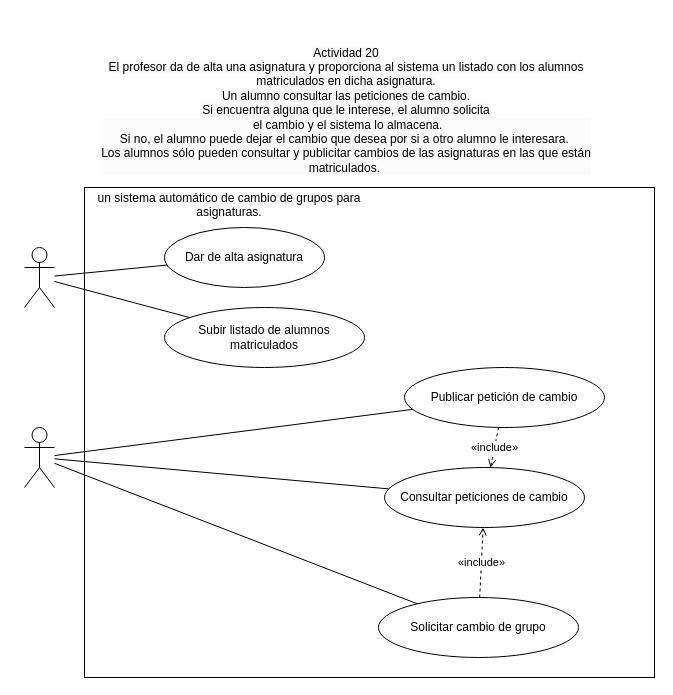
This 673x695 diagram has some shape labels left out. The centre of each missing label's shape, as x and y in pixels:
"Alumno" goes at (39,457).
"Profesor" goes at (39,277).
